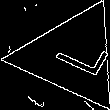L_NW: (38, 31, 104, 82)
